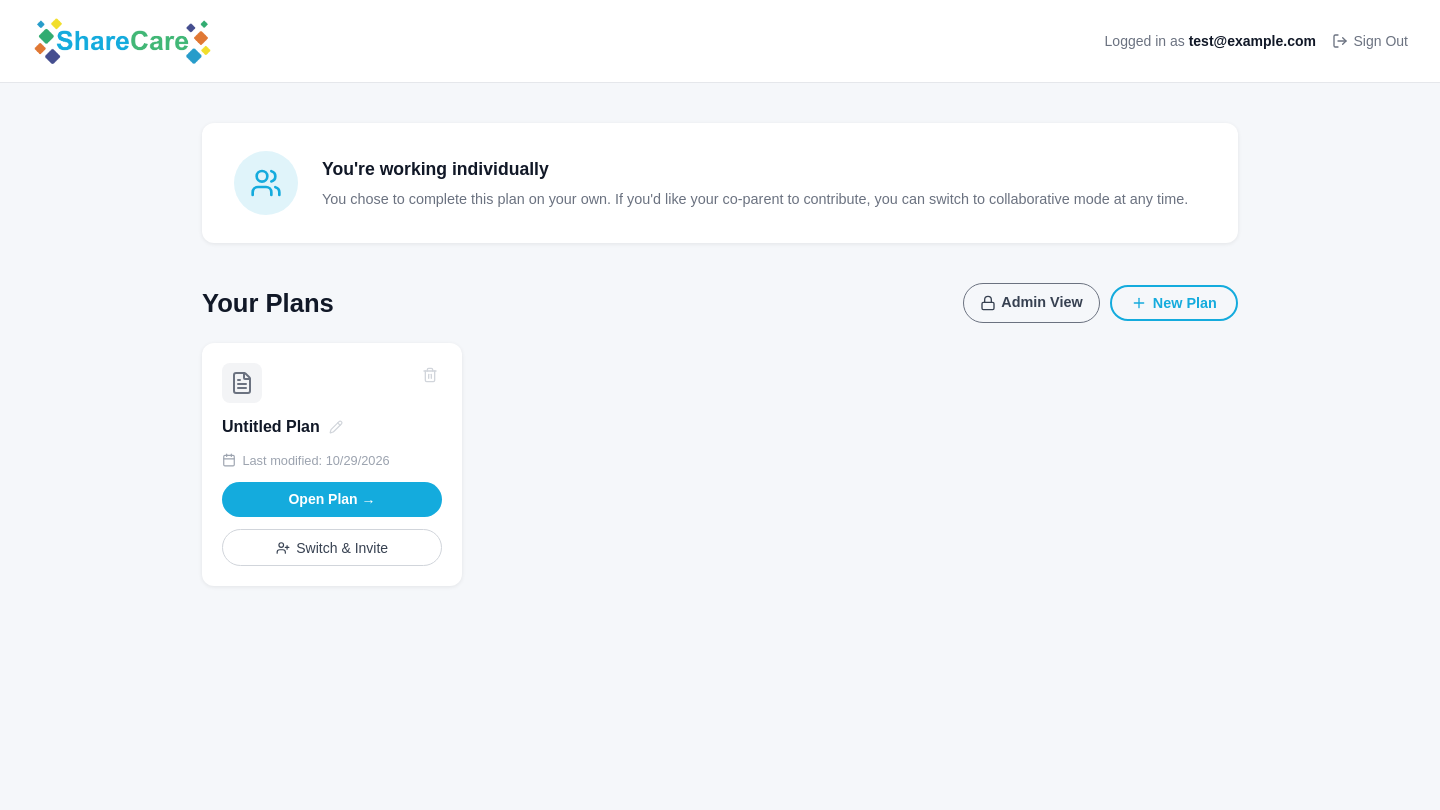
Test: Dashboard › shows the switch prompt description
The image size is (1440, 810).
Check: the heading "Untitled Plan" is shown, box [222,415,320,439]
Click the button "Switch & Invite" at (332, 548), box [222,529,442,566]
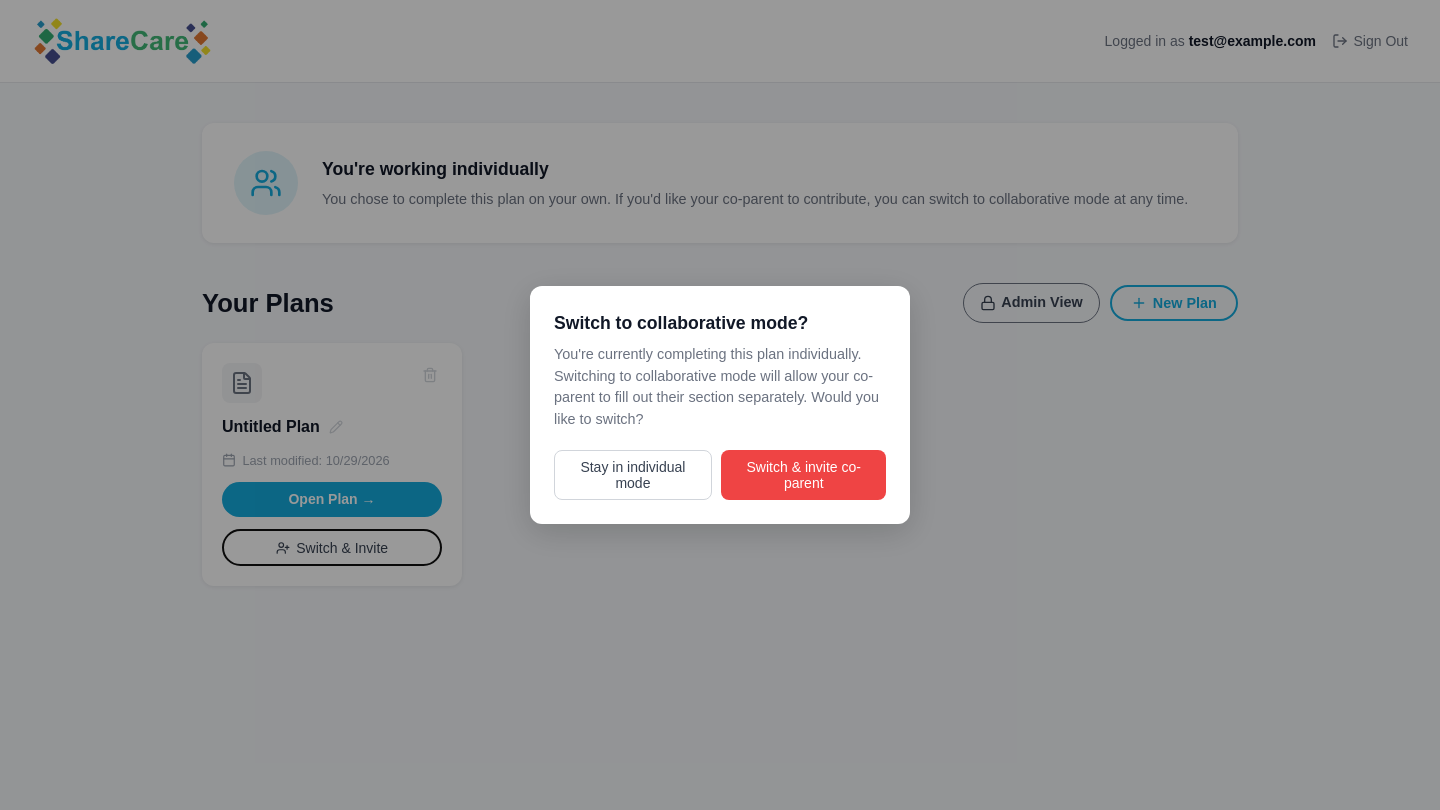
Check: the heading "Switch to collaborative mode?" is shown, box [554,313,808,333]
Check: the text "You're currently completing this plan individually" is shown, box [554,346,879,427]
